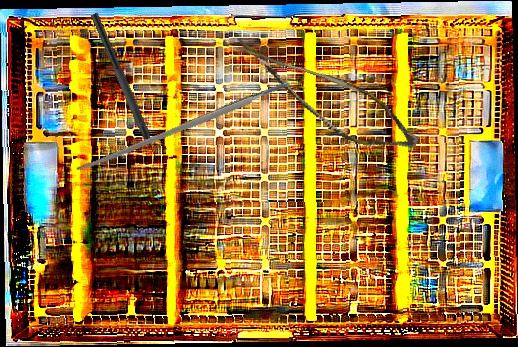Chopper: (79, 12, 167, 174)
Micro Scissor: (216, 36, 431, 161)
Scalpel Handle: (74, 78, 294, 176)
